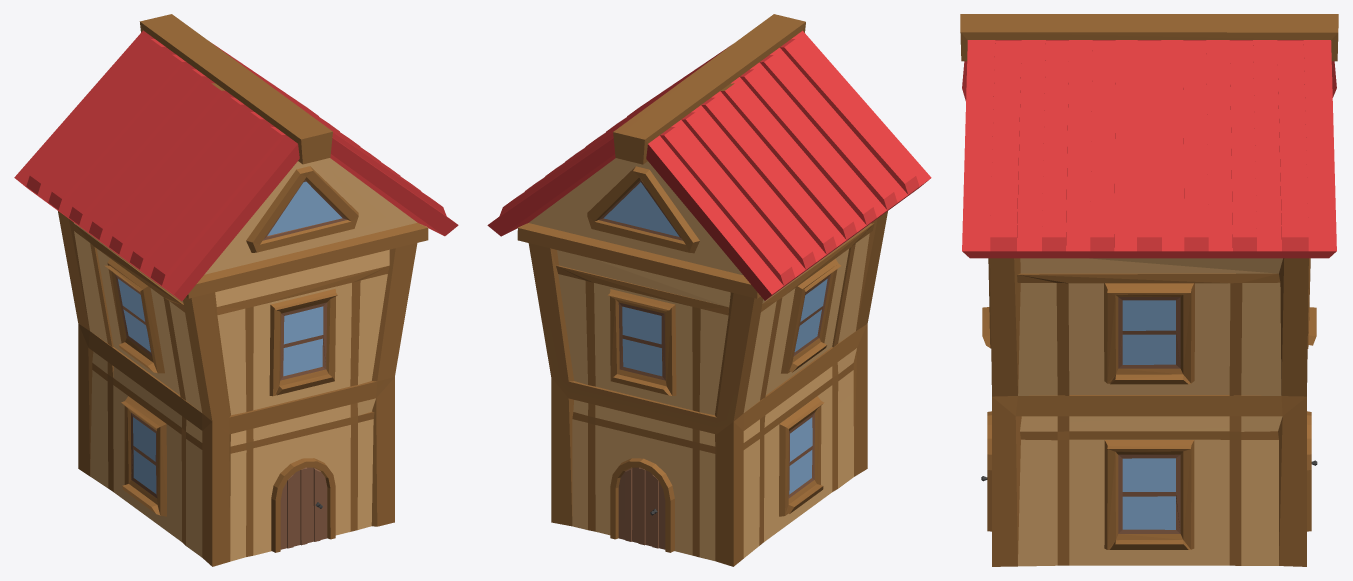
File: HouseFloor.fbx
3 views of the same model, side by side, from view 1: azimuth 30°, elevation 25°; view 2: azimuth 150°, elevation 25°; view 3: azimuth 270°, elevation 25° (orthographic). The views are drawn at different scales.
Visible parts, largest first — view 1: Cube.006; view 2: Cube.006; view 3: Cube.006.
Part boxes in pixels (bbox=[...]): Cube.006: bbox=[14, 14, 458, 566]; Cube.006: bbox=[487, 14, 931, 566]; Cube.006: bbox=[960, 14, 1338, 566].
Bounding box in the file's own units: 403 × 567 × 395.
